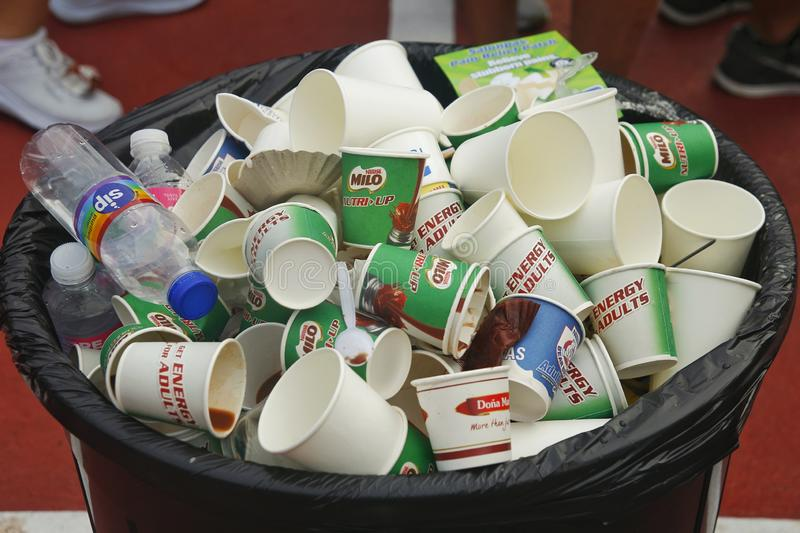cup: (435, 104, 626, 222), (255, 342, 413, 476), (356, 233, 501, 361), (275, 61, 456, 155), (115, 330, 257, 446), (239, 195, 354, 315), (581, 259, 690, 382), (659, 175, 771, 280)
plastic_bottle: (13, 114, 232, 329), (32, 237, 125, 345), (124, 121, 195, 210)
